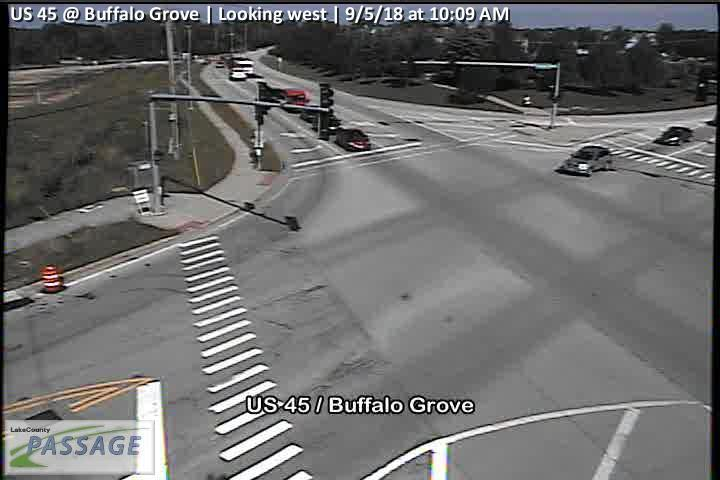SUV: (559, 143, 616, 176), (236, 60, 256, 76), (228, 67, 248, 81)
Sedan: (657, 124, 695, 148), (337, 127, 372, 152), (316, 116, 340, 139), (299, 103, 321, 122)
Truck: (278, 86, 311, 112)
